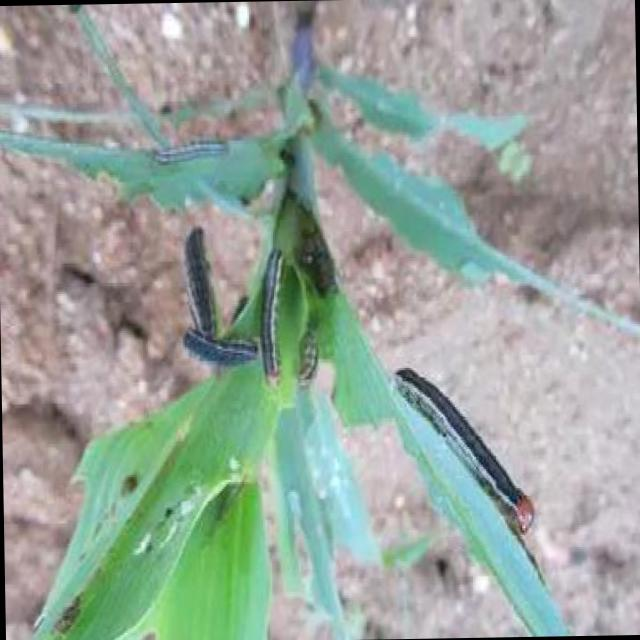pest: (398, 371, 540, 528), (261, 252, 291, 394), (184, 230, 215, 338), (153, 133, 239, 164), (184, 327, 248, 364)
